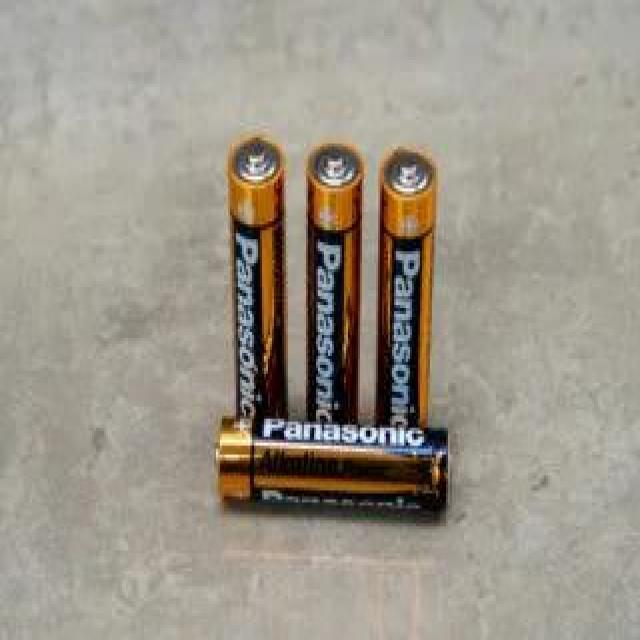battery: (218, 413, 453, 525), (374, 146, 438, 429), (228, 132, 290, 421), (304, 140, 363, 431)
